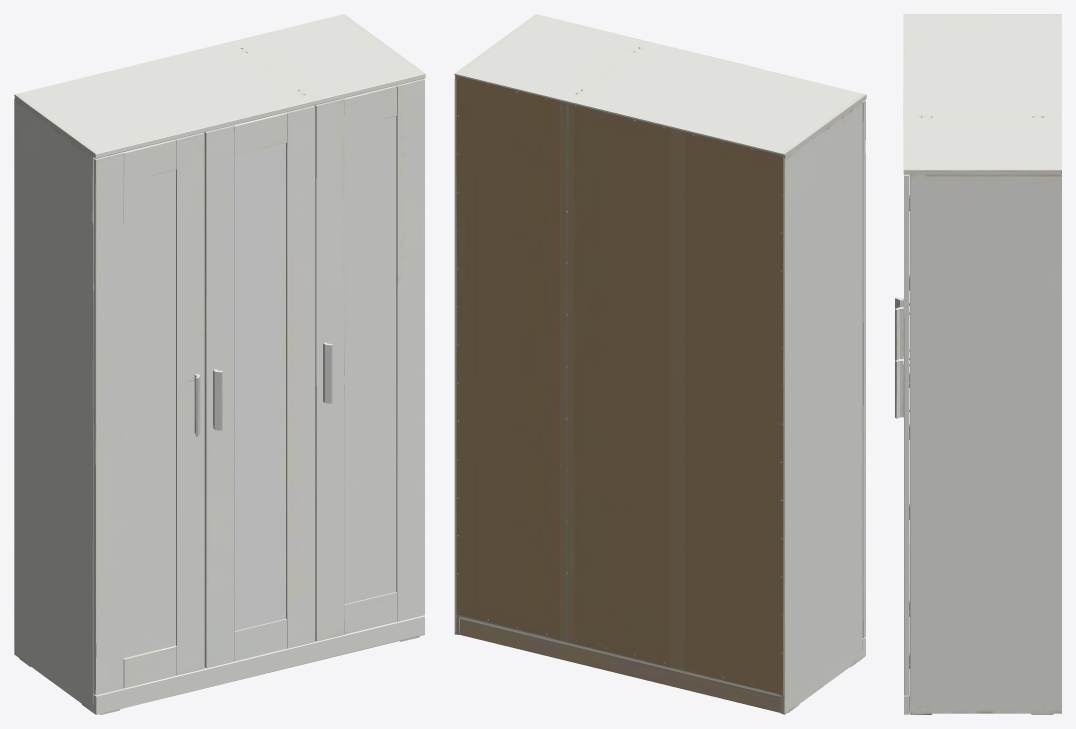
3 views of the same model, side by side, from view 1: azimuth 30°, elevation 25°; view 2: azimuth 150°, elevation 25°; view 3: azimuth 270°, elevation 25° (orthographic). The views are drawn at different scales.
Visible parts, largest first — view 1: ASY_ART_90574800_S01_NV01; view 2: ASY_ART_90574800_S01_NV01; view 3: ASY_ART_90574800_S01_NV01.
Boxes of the visible parts, x1,y1,x2,y2 form: ASY_ART_90574800_S01_NV01: (14, 14, 425, 714); ASY_ART_90574800_S01_NV01: (454, 14, 866, 714); ASY_ART_90574800_S01_NV01: (895, 14, 1061, 714).
Bounding box in the file's own units: 1.17 × 1.91 × 0.5287.
Materials: 2 (2 with a texture image).
